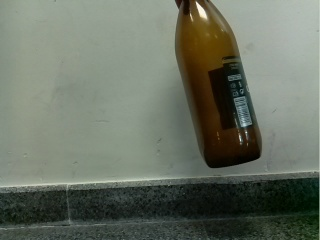pote cristal: (174, 1, 263, 169)
